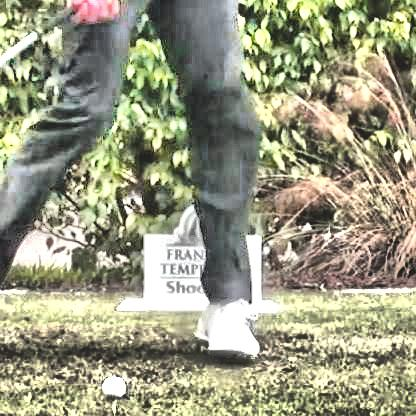golfball: (98, 372, 125, 397)
